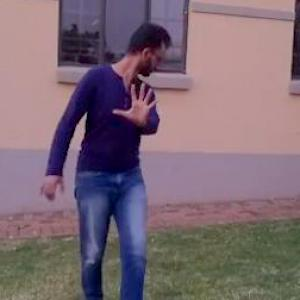follow_hand: (112, 75, 163, 130)
